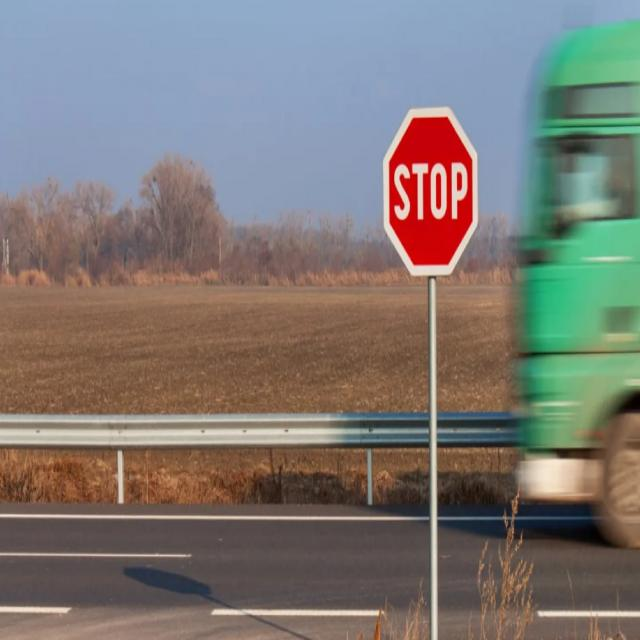stop-sign: (363, 103, 498, 291)
